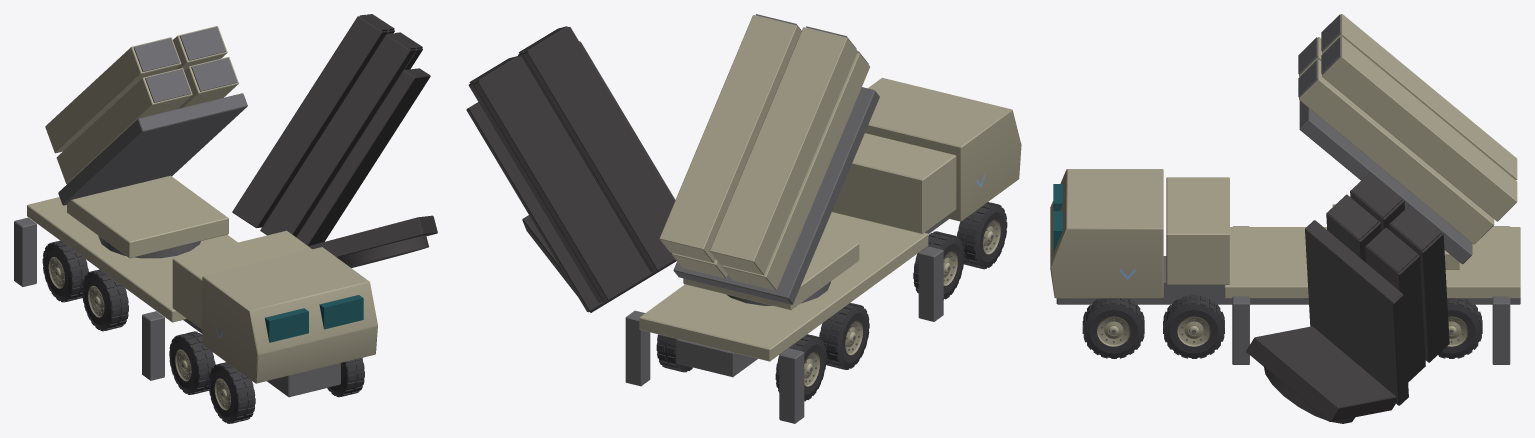
Rendered from samLauncher__spyder_s_125.glb.
The picture shows the model from 3 angles, left to right: view 1: azimuth 30°, elevation 25°; view 2: azimuth 150°, elevation 25°; view 3: azimuth 270°, elevation 25°; orthographic projection. The views are drawn at different scales.
Visible parts, largest first — view 1: Hull_Mesh, Wreck, Gun_Mesh, Turret_Mesh, Wheel_L1_Mesh, Wheel_L3_Mesh, Wheel_L2_Mesh, Wheel_L0_Mesh, Wheel_R3_Mesh; view 2: Hull_Mesh, Gun_Mesh, Wreck, Turret_Mesh, Wheel_L3_Mesh, Wheel_L1_Mesh, Wheel_L2_Mesh, Wheel_L0_Mesh, Wheel_R0_Mesh; view 3: Hull_Mesh, Wreck, Gun_Mesh, Wheel_R2_Mesh, Wheel_R3_Mesh, Wheel_R0_Mesh.
Boxes of the visible parts, bbox=[...] form: Hull_Mesh: bbox=[14, 197, 377, 397]; Wreck: bbox=[56, 14, 437, 421]; Gun_Mesh: bbox=[45, 26, 247, 205]; Turret_Mesh: bbox=[67, 175, 228, 258]; Wheel_L1_Mesh: bbox=[82, 269, 128, 331]; Wheel_L3_Mesh: bbox=[208, 362, 255, 423]; Wheel_L2_Mesh: bbox=[169, 331, 215, 394]; Wheel_L0_Mesh: bbox=[42, 240, 88, 302]; Wheel_R3_Mesh: bbox=[327, 357, 364, 397]; Hull_Mesh: bbox=[625, 77, 1021, 423]; Gun_Mesh: bbox=[659, 14, 879, 304]; Wreck: bbox=[466, 26, 994, 397]; Turret_Mesh: bbox=[683, 234, 859, 309]; Wheel_L3_Mesh: bbox=[957, 202, 1007, 269]; Wheel_L1_Mesh: bbox=[819, 303, 869, 369]; Wheel_L2_Mesh: bbox=[913, 231, 964, 299]; Wheel_L0_Mesh: bbox=[775, 334, 826, 401]; Wheel_R0_Mesh: bbox=[656, 334, 692, 372]; Hull_Mesh: bbox=[1050, 169, 1520, 364]; Wreck: bbox=[1246, 172, 1449, 423]; Gun_Mesh: bbox=[1298, 14, 1517, 264]; Wheel_R2_Mesh: bbox=[1163, 295, 1224, 358]; Wheel_R3_Mesh: bbox=[1082, 298, 1144, 358]; Wheel_R0_Mesh: bbox=[1438, 298, 1482, 358].
Size of what is drawn, in the model's own units: 7.62 by 5.84 by 8.5.
